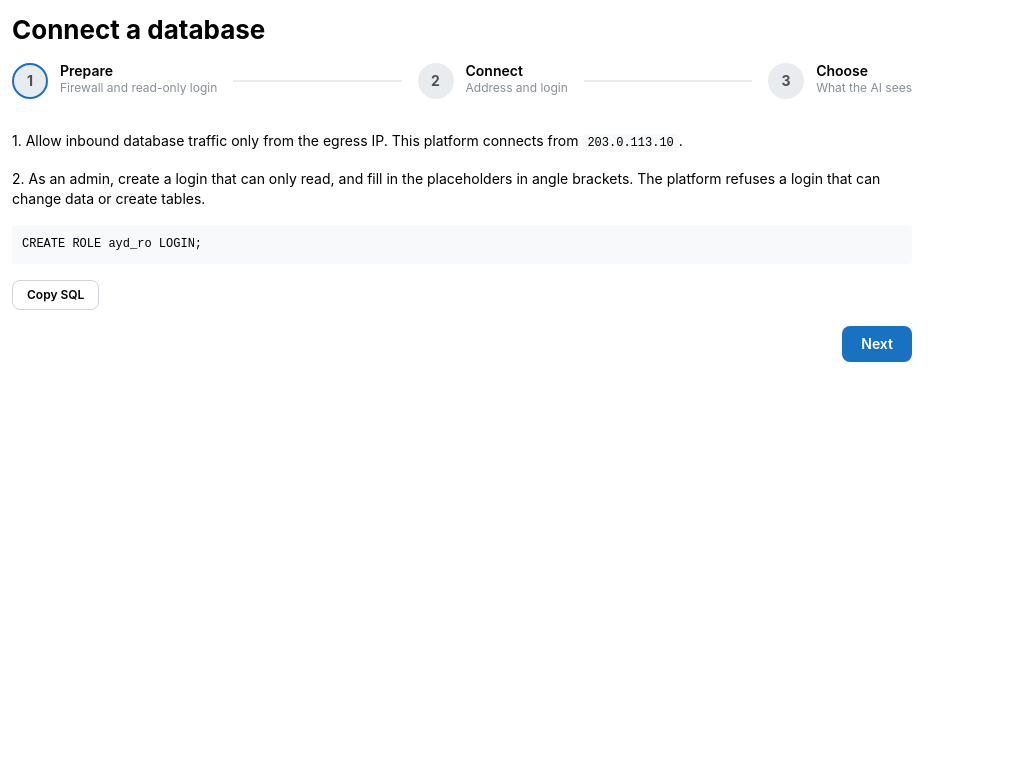
Test case: ConnectWizardPage › checks the fields before sending anything
Click the button "Next" at (877, 344), box [842,326,912,362]
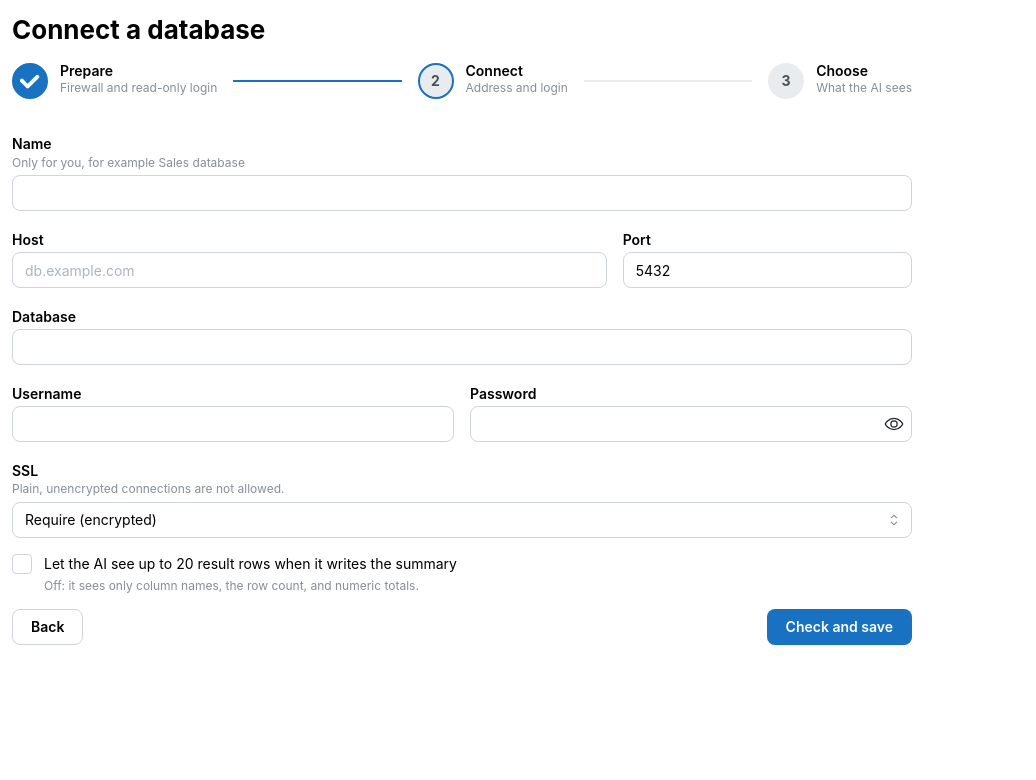
Click the button "Check and save" at (839, 627), box [767,609,912,645]
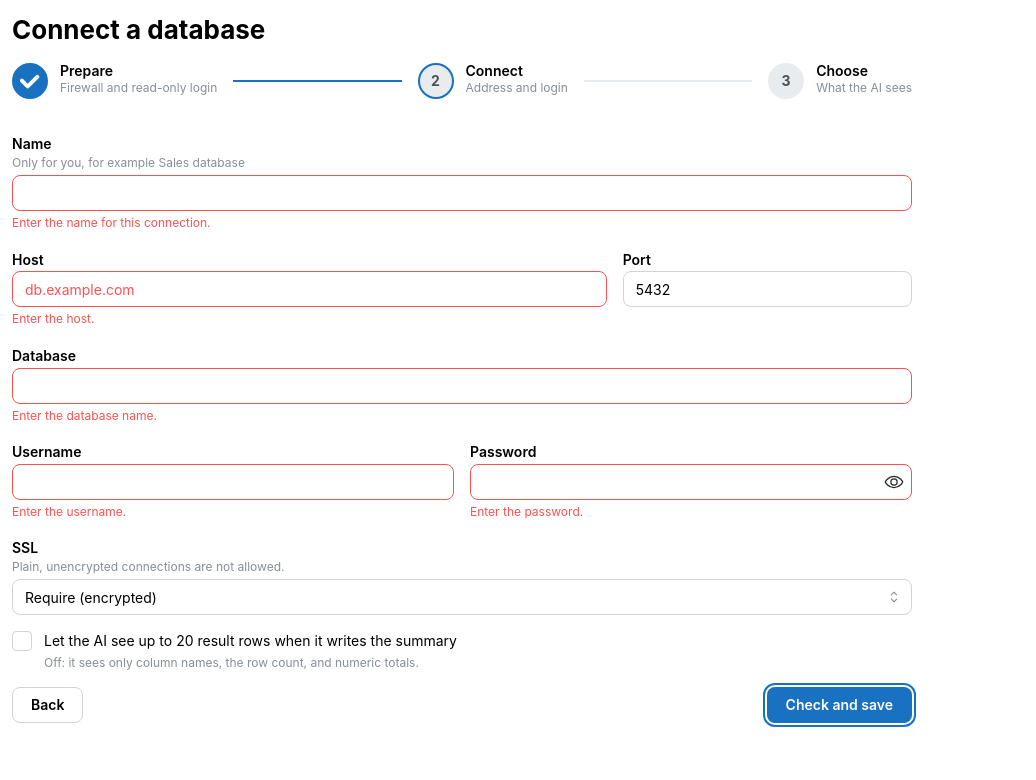
Result: the text "Enter the host." is shown at [12,312,94,326]
